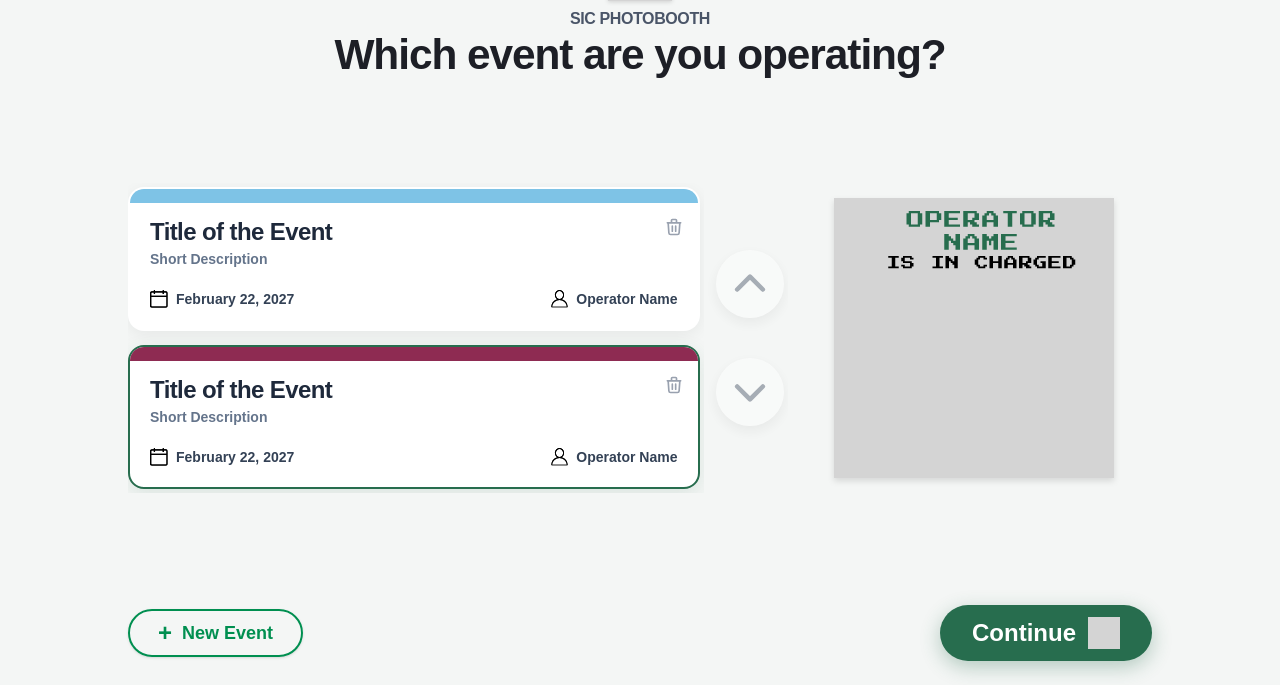
it: EventSelectScreen › creates an event with short description and displays the new card
(page scrolled)
# Open New Event modal
Click the button "+ New Event": [216, 633] box [128,609,303,657]
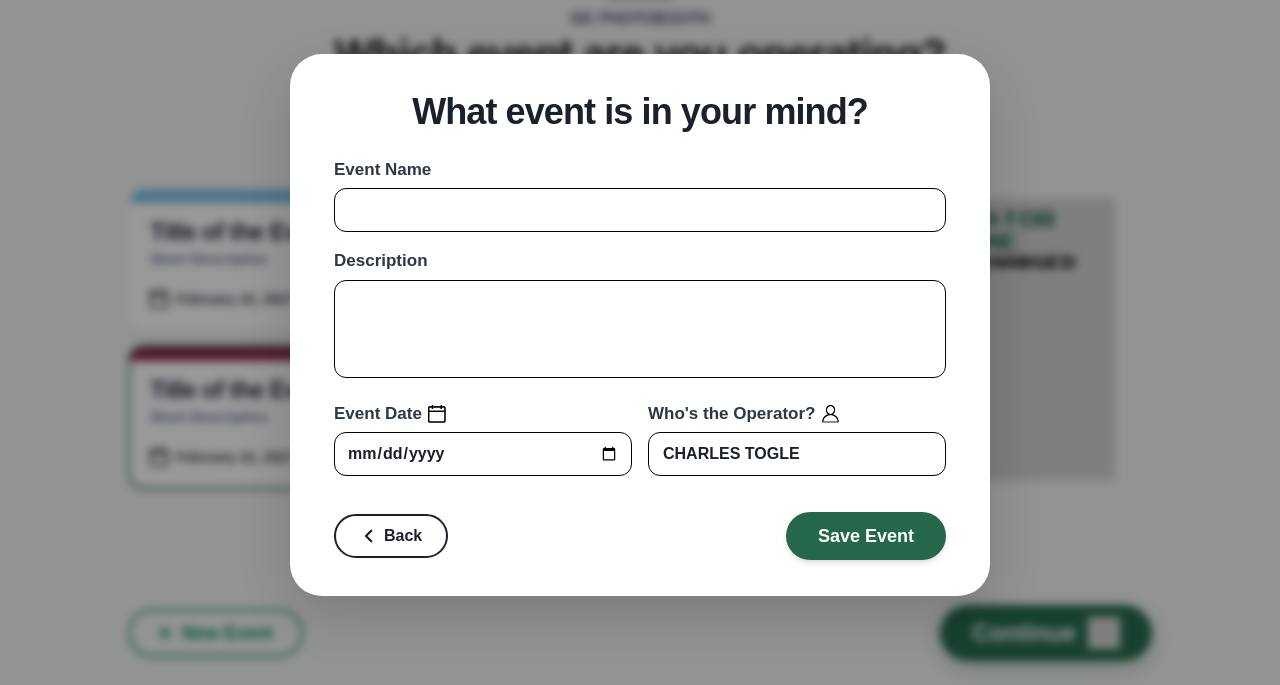
Result: the heading "What event is in your mind?" is shown at [412,91,868,132]
# Name is text input, description is textarea, operator is text input
In the field below "Event Name": [640, 210] box [334,188,946,232], type "Hackathon 2026"
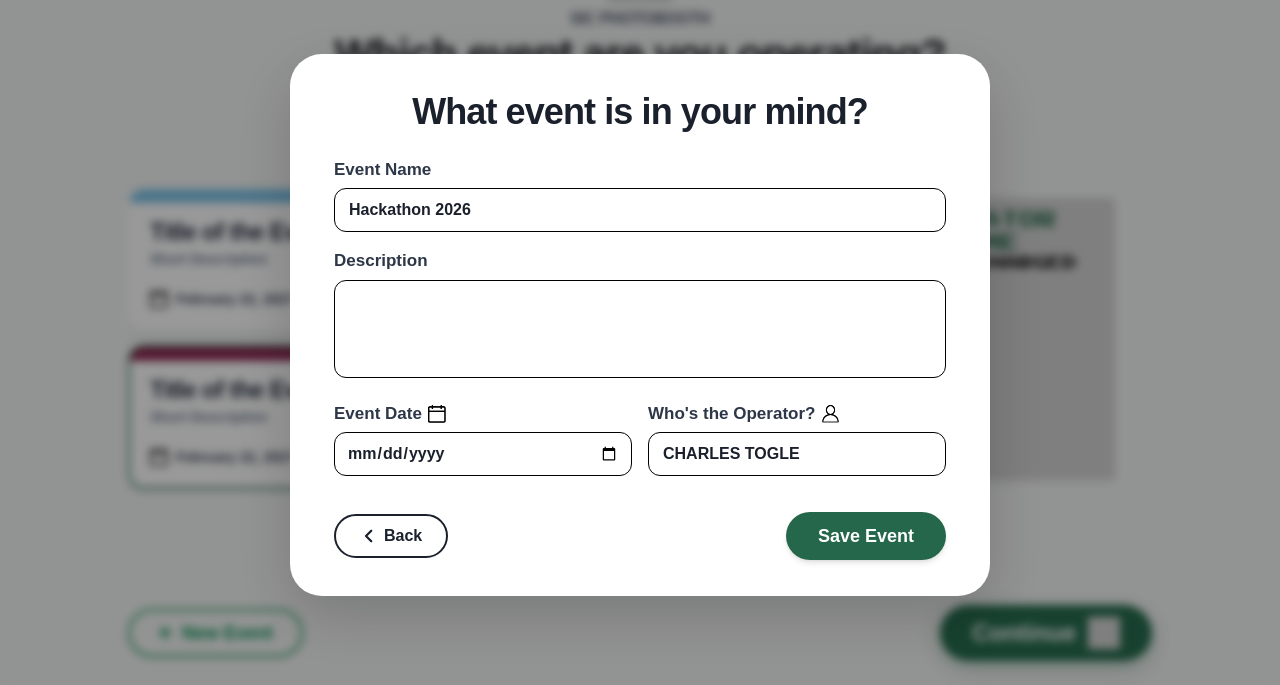
In the text box: [640, 329] box [334,280,946,378], type "24-hour innovation marathon"
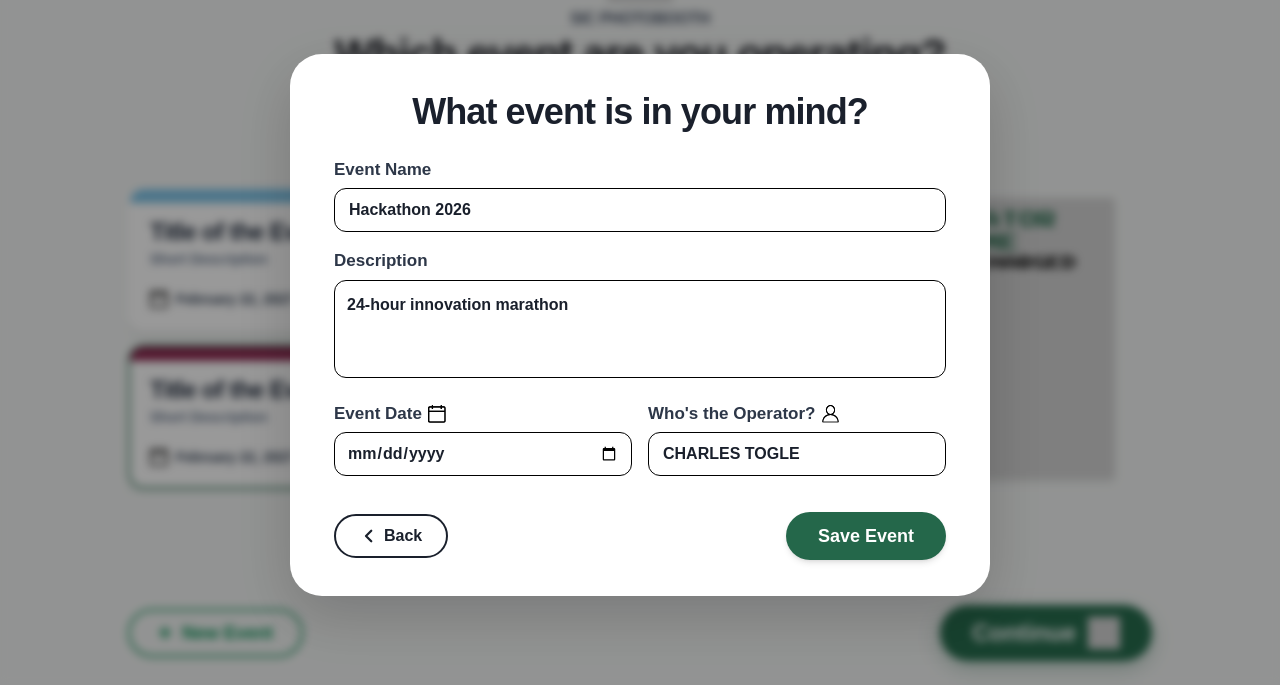
Replace the text in the field below "Who's the Operator?" with "Jane Doe": [797, 454] box [648,432,946,476]
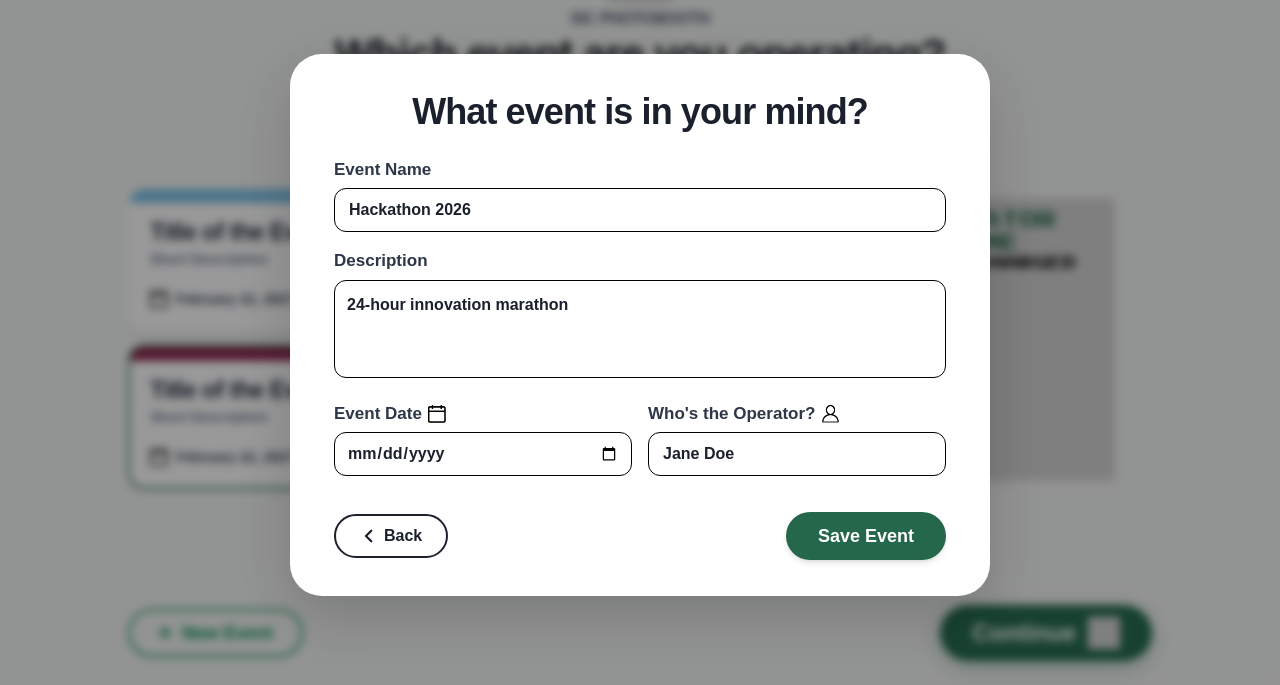
In the date field: [483, 454] box [334,432,632,476], type "2026-11-20"
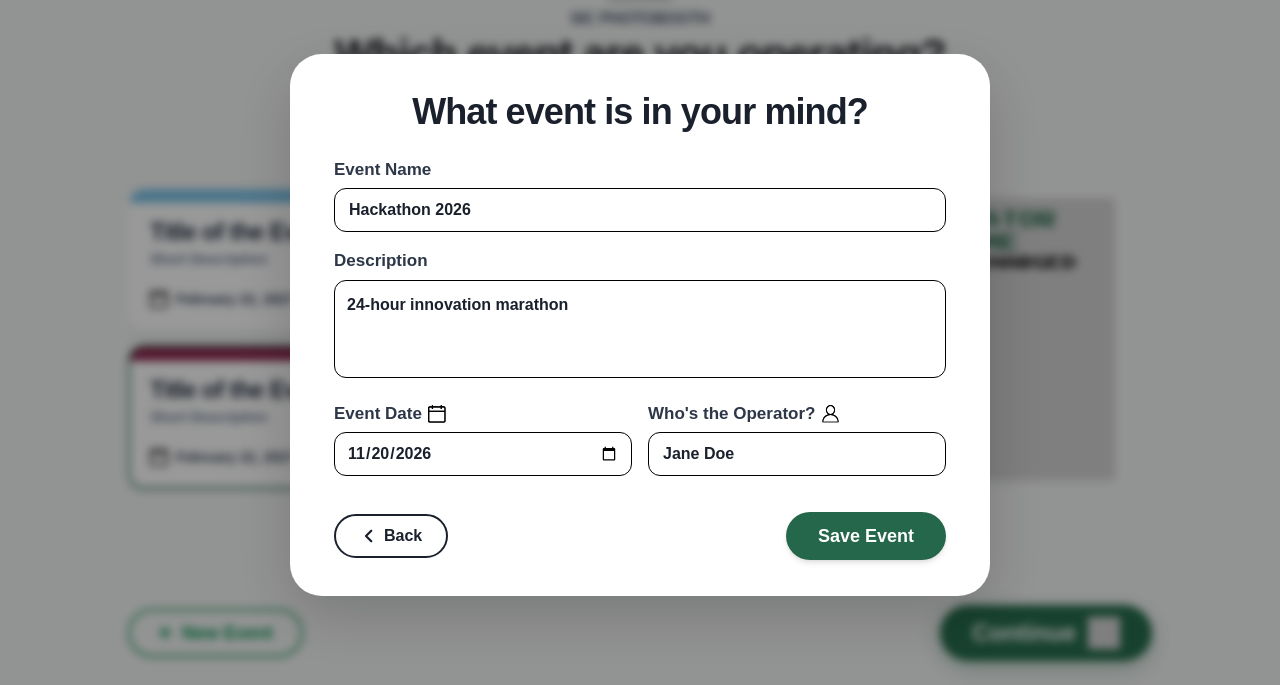
# Submit form
Submit the form, box [334,157,946,560]
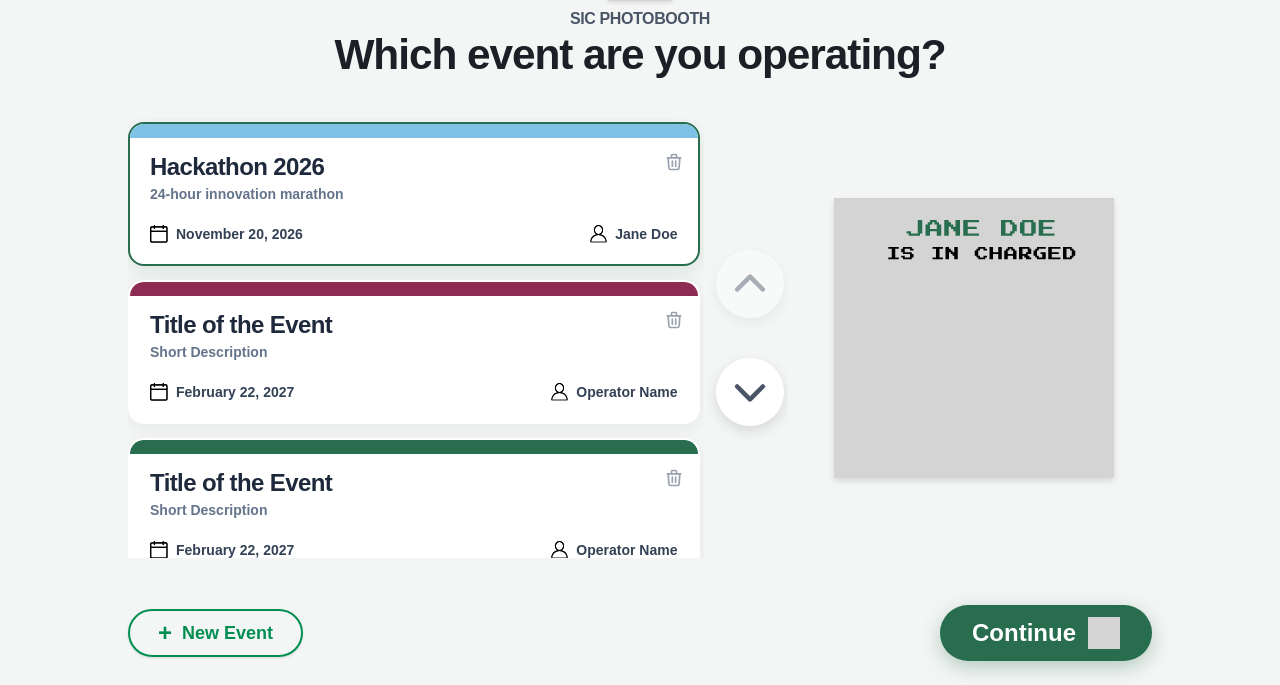
Result: the heading "Hackathon 2026" is shown at [150,152,324,180]
Result: the text "24-hour innovation marathon" is shown at [150,186,344,202]
